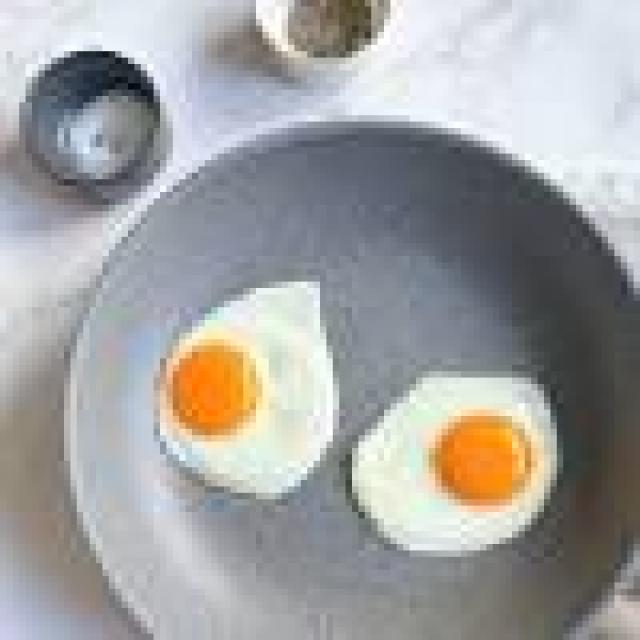Egg: (158, 281, 338, 498), (352, 375, 559, 552)
